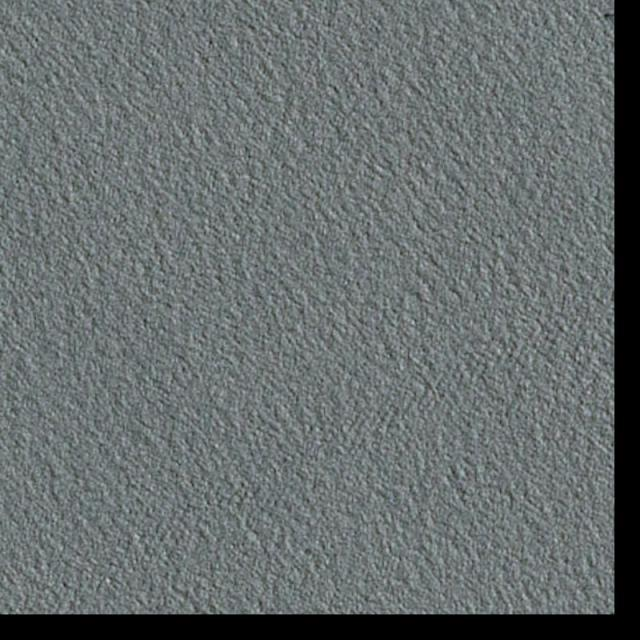ship: (604, 10, 614, 17)
